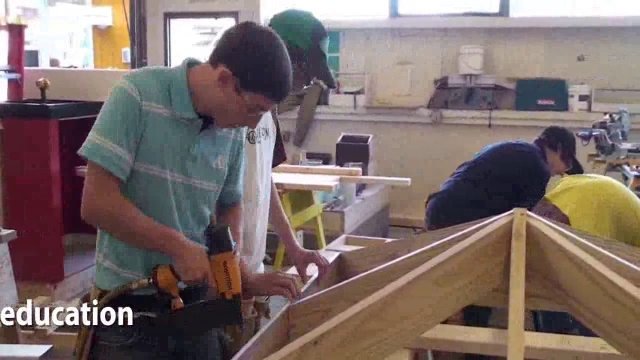person: (70, 18, 320, 307), (414, 117, 621, 233)
